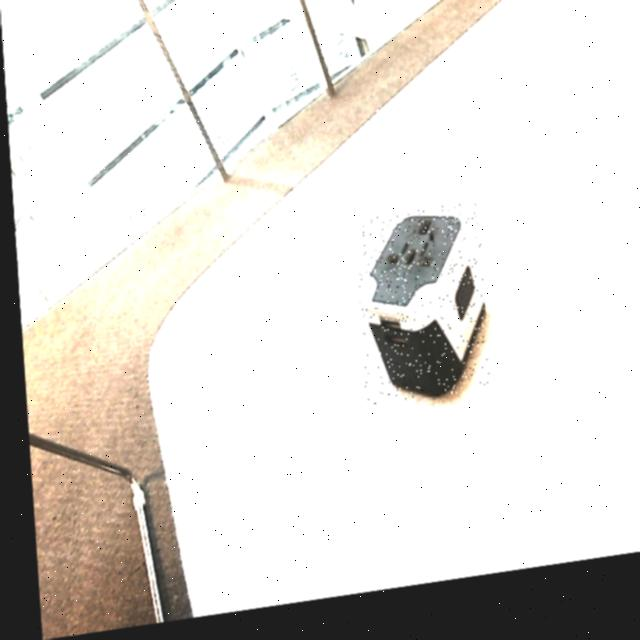adapter: (350, 215, 484, 417)
